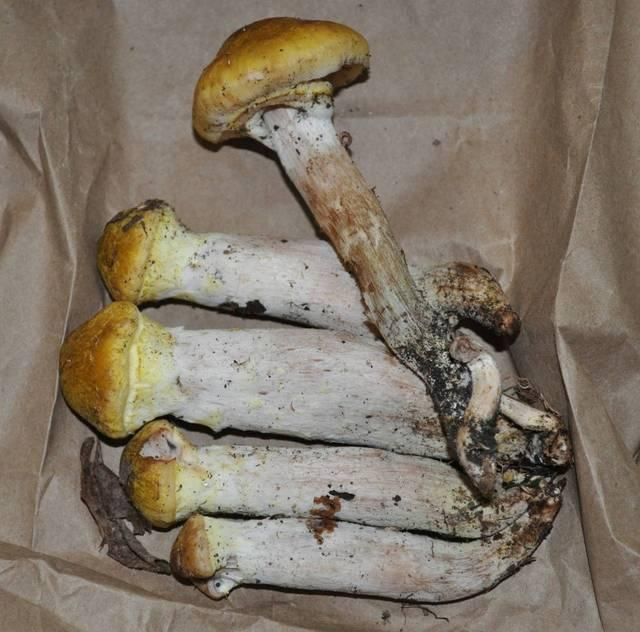Edible Mushroom: (189, 14, 558, 501), (54, 195, 379, 603)
